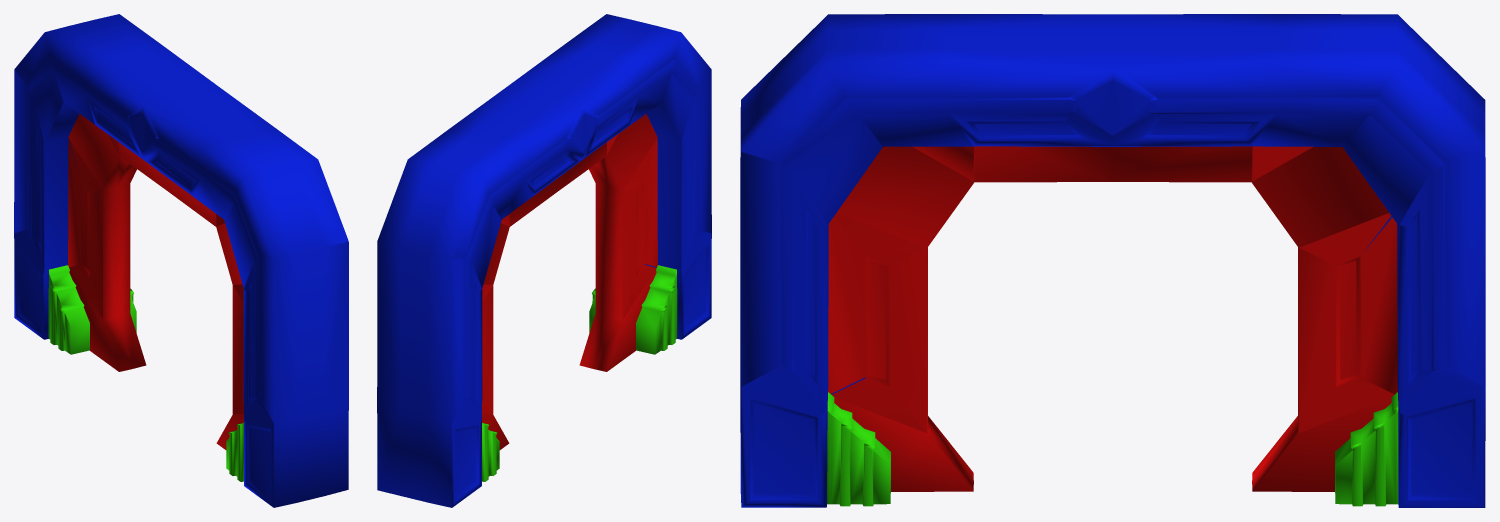
File: gate.FBX
3 renders of one model, left to right at view 1: azimuth 30°, elevation 25°; view 2: azimuth 150°, elevation 25°; view 3: azimuth 270°, elevation 25°, orthographic. The views are drawn at different scales.
Visible parts, largest first — view 1: gate; view 2: gate; view 3: gate.
Part boxes in pixels (x1=…): gate: x1=14, y1=14, x2=348, y2=507; gate: x1=377, y1=14, x2=711, y2=507; gate: x1=740, y1=14, x2=1485, y2=507.
Bounding box in the file's own units: 1.41 × 5.26 × 8.01.
